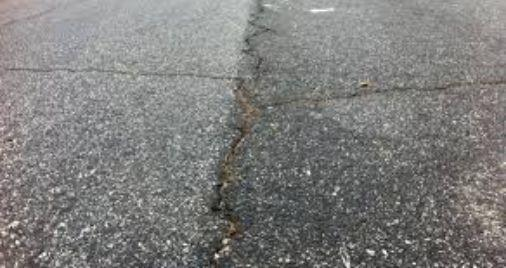crack: (212, 0, 280, 268), (2, 60, 255, 87), (259, 80, 506, 107)
